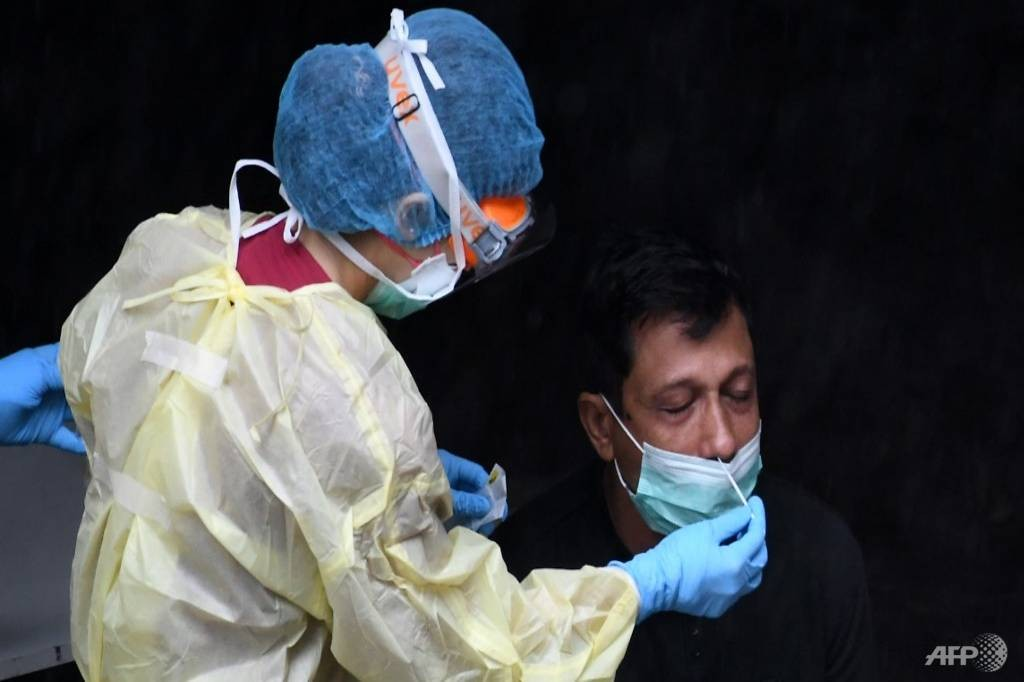Coverall: (48, 194, 637, 682)
Gloves: (600, 494, 774, 630), (1, 323, 101, 460), (418, 439, 513, 547)
masked_weared_incorrect: (624, 345, 762, 541)
